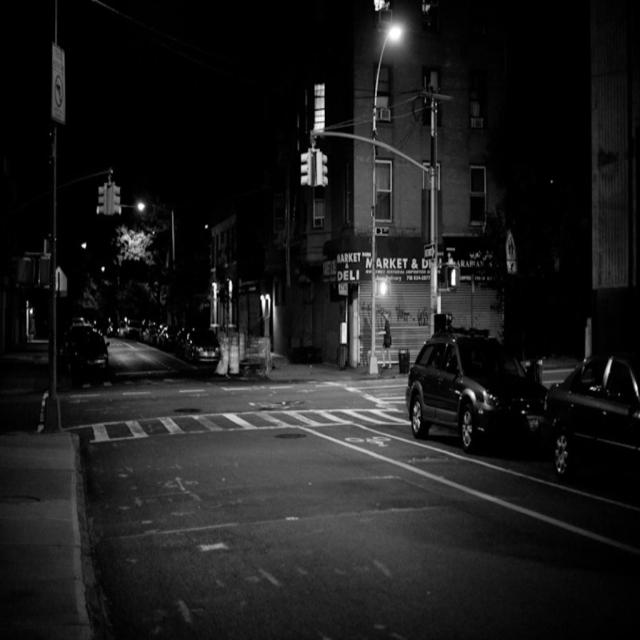car: (402, 319, 560, 453)
